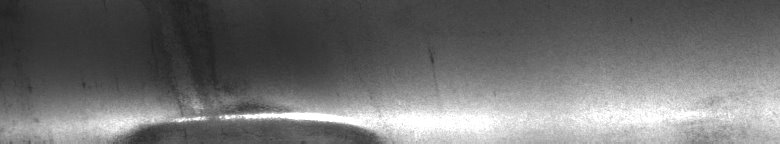ke: (82, 54, 436, 136)
